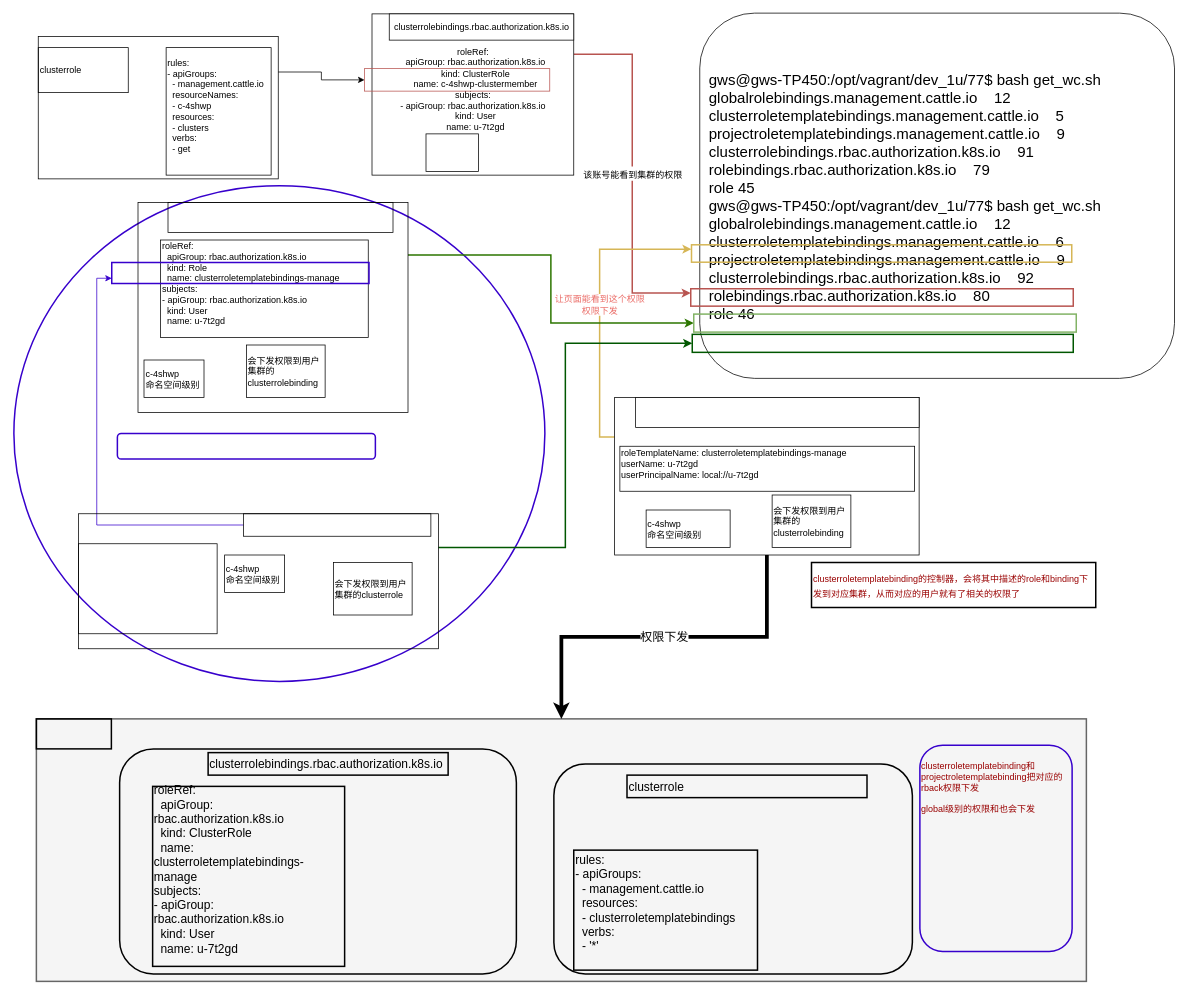
Image size: 1187x995. Some labels were removed from this diagram. Each missing label, with the centre of its shape:
clusterroletemplatebindings.management.cattle.io: point (777, 412)
clusterroletemplatebindings的crd是成员管理的权限: point (246, 445)
global 集群级别: point (451, 152)
role: clusterroletemplatebindings-manage: point (337, 524)
rolebindings.rbac.authorization.k8s.io: point (280, 217)
rules: - apiGroups: - '*' resources: - clusterroletemplatebindings verbs: - '*': point (147, 588)
用户集群: point (73, 733)
